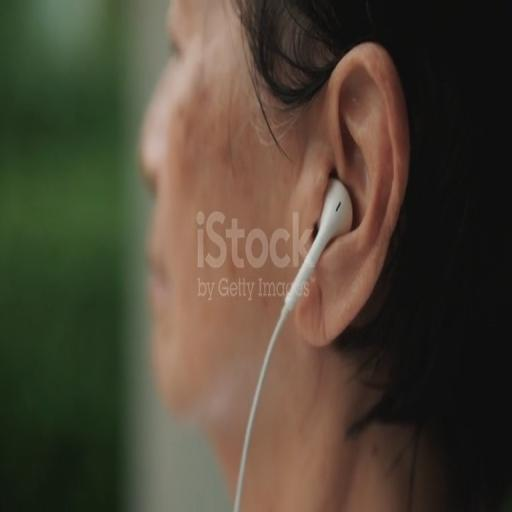earphone: (234, 193, 356, 512)
